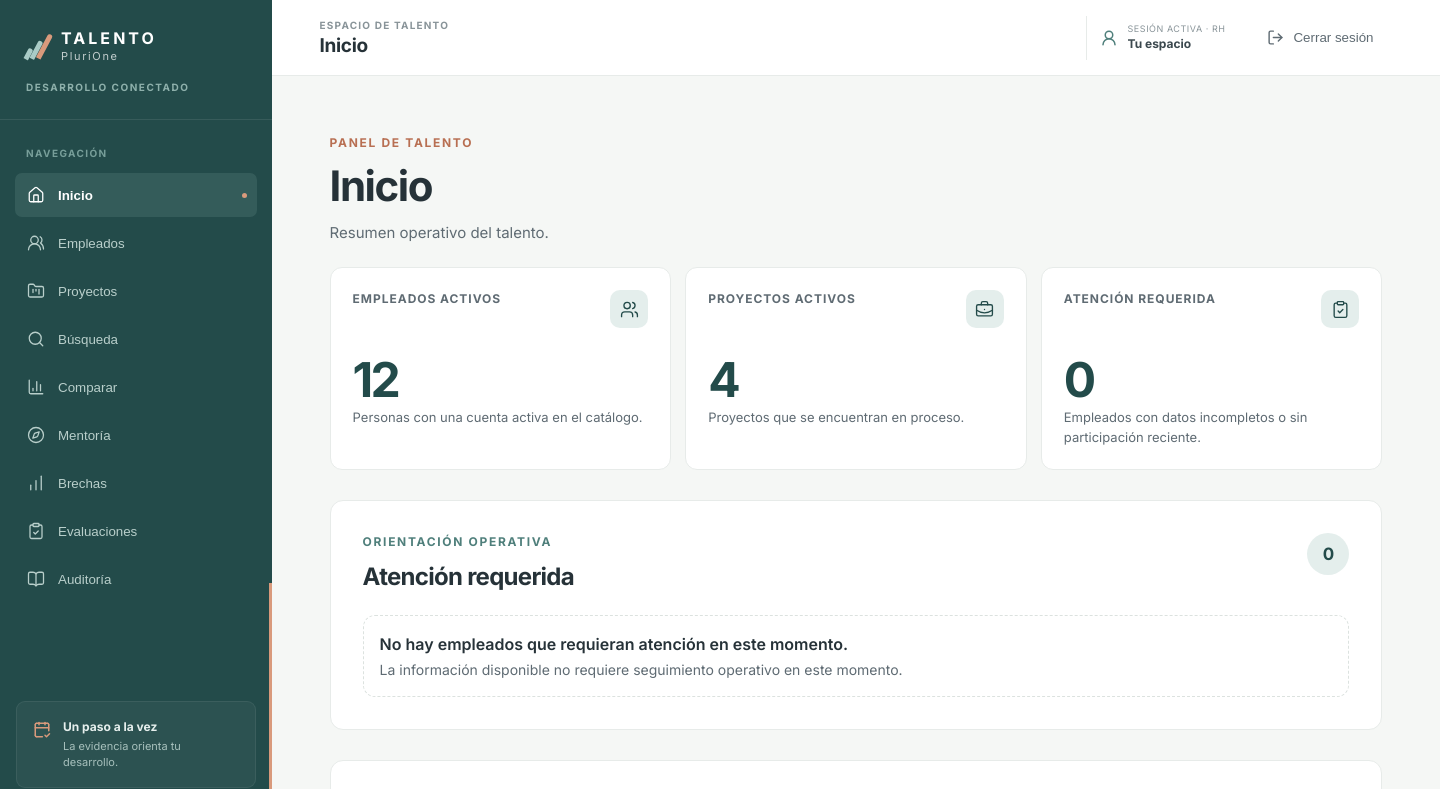
Test case: RH-02.3 — App: rutas reales de Proyectos (/proyectos, /proyectos/:id) › consultar un proyecto navega a /proyectos/:id y el catálogo desaparece
Expected: the heading "Empleados activos" is shown, [353,290,501,308]
Click the button "Proyectos" at x=136, y=291, box [15,269,257,313]
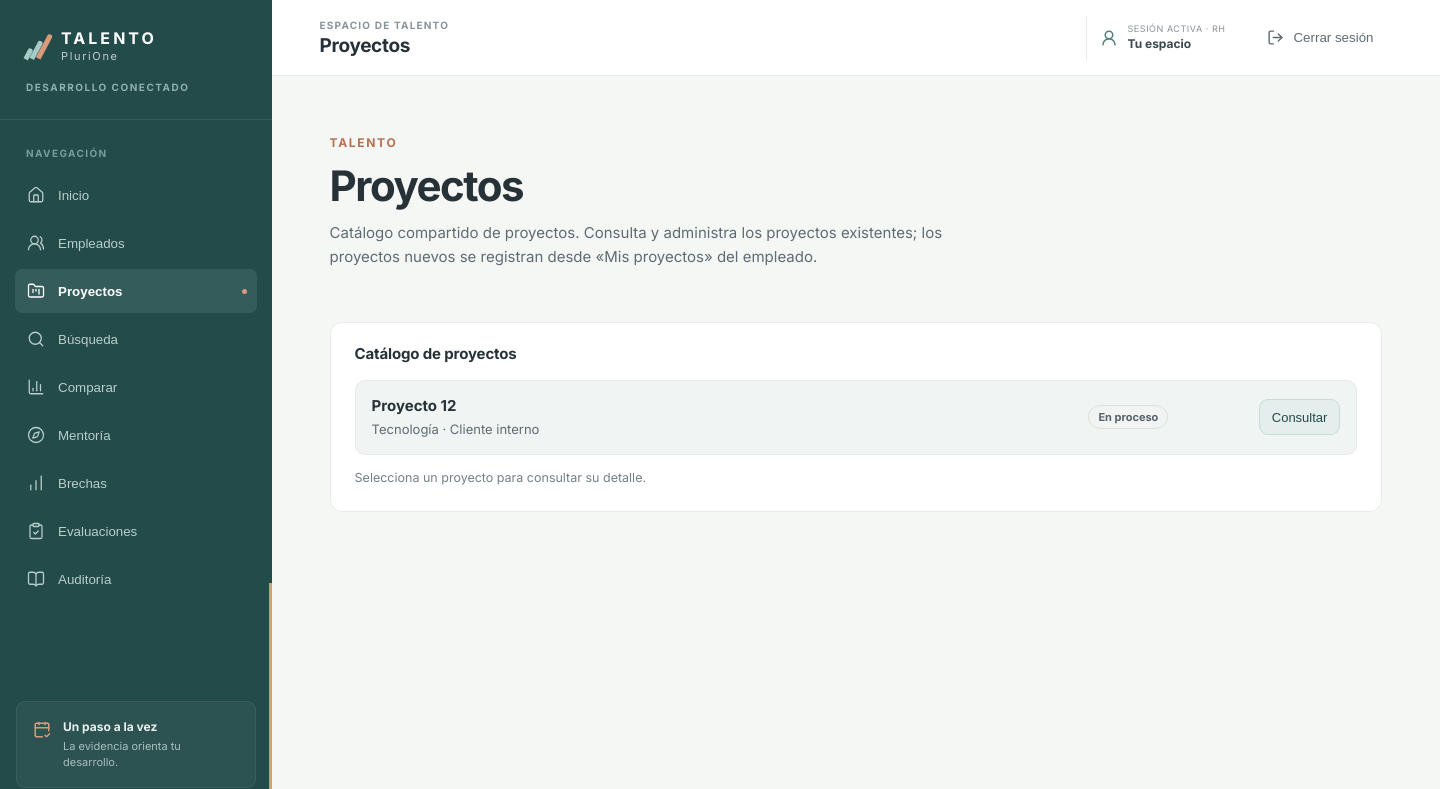
Click the button "Consultar" at x=1300, y=417, box [1259,399,1340,435]
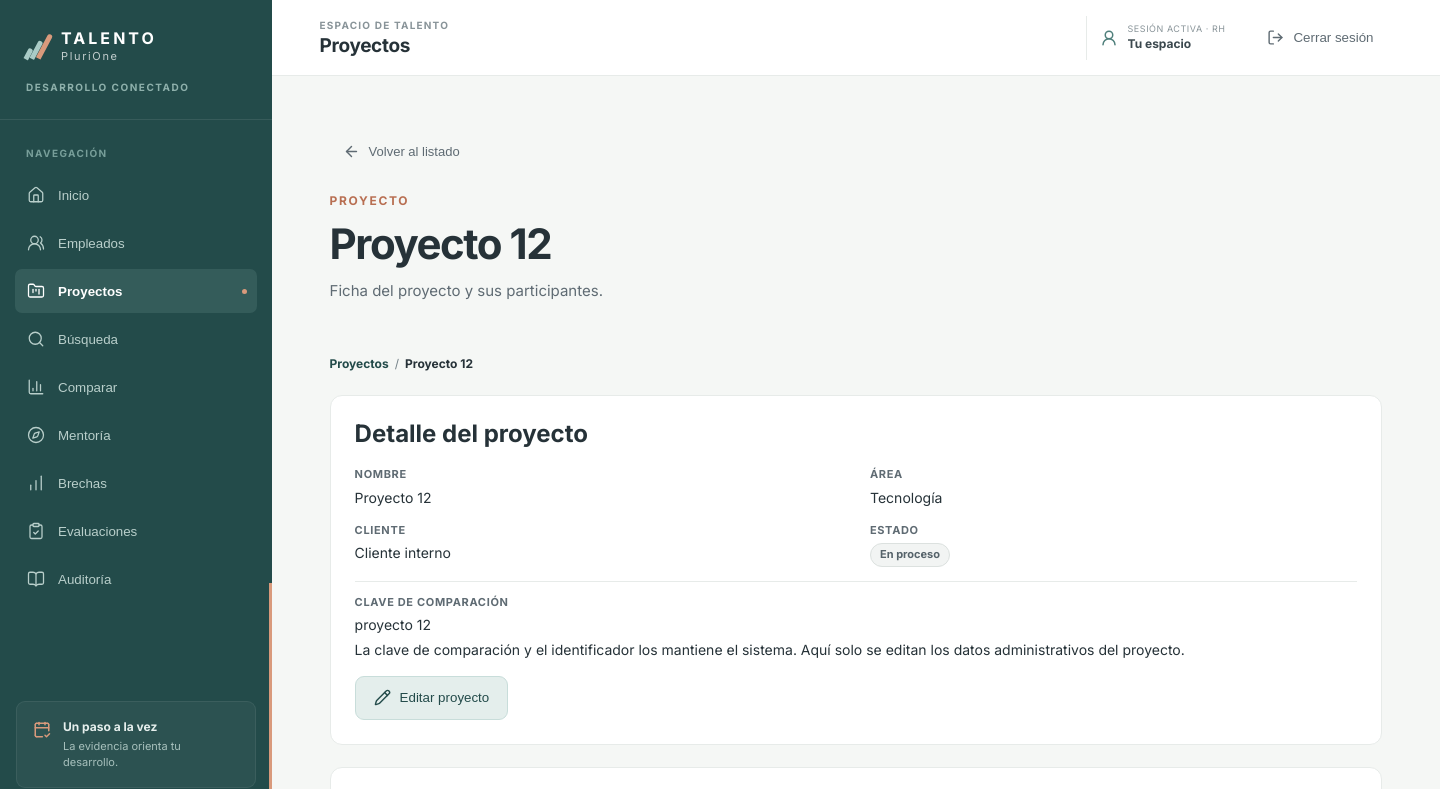
Expected: the text "Clave de comparación" is shown, [355,595,509,609]
Expected: the heading "Catálogo de proyectos" is gone
Expected: the button "Consultar" is gone
